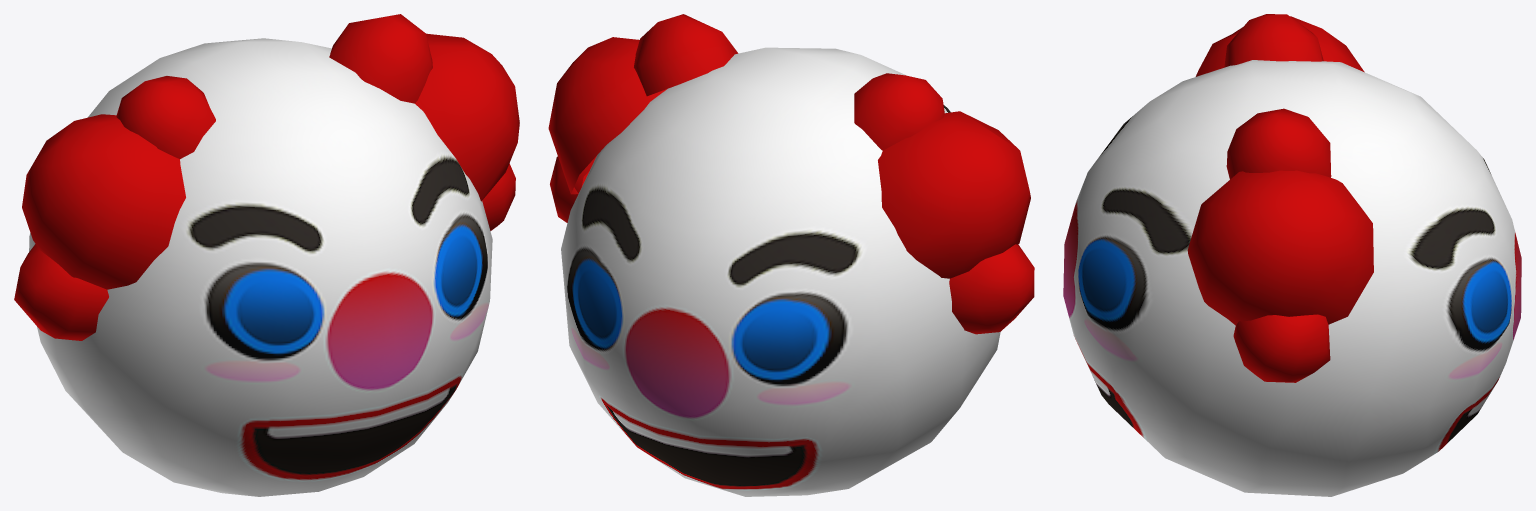
Rendered from white_clown.glb.
3 views of the same model, side by side, from view 1: azimuth 30°, elevation 25°; view 2: azimuth 150°, elevation 25°; view 3: azimuth 270°, elevation 25° (orthographic). The views are drawn at different scales.
Parts seen in each view (by area): view 1: White_Clown; view 2: White_Clown; view 3: White_Clown.
Boxes of the visible parts, x1,y1,x2,y2 form: White_Clown: (14, 14, 519, 496); White_Clown: (548, 14, 1034, 496); White_Clown: (1063, 14, 1521, 496).
Bounding box in the file's own units: 0.5291 × 0.4508 × 0.4491.
1 material, 1 textured.
